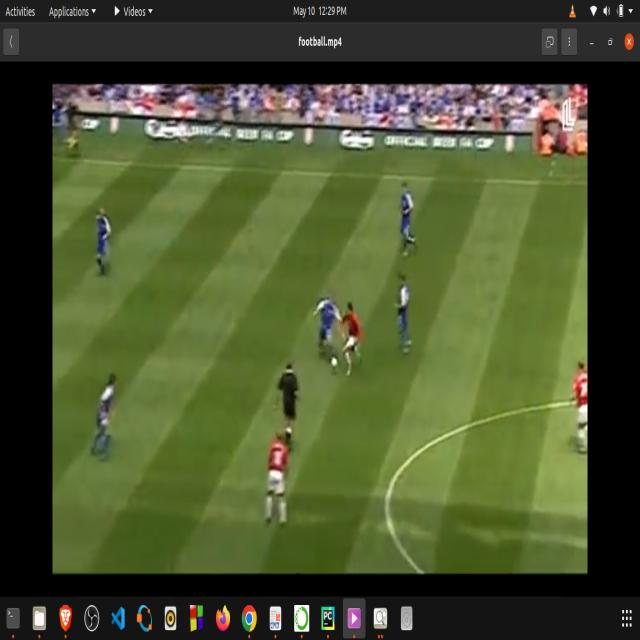Ball: (329, 355, 342, 374)
Refree: (273, 350, 301, 441)
football-players: (390, 264, 422, 374), (92, 364, 124, 468), (263, 435, 295, 531), (395, 174, 424, 257), (89, 190, 116, 274), (308, 293, 341, 354), (570, 357, 590, 454), (344, 290, 364, 374)
